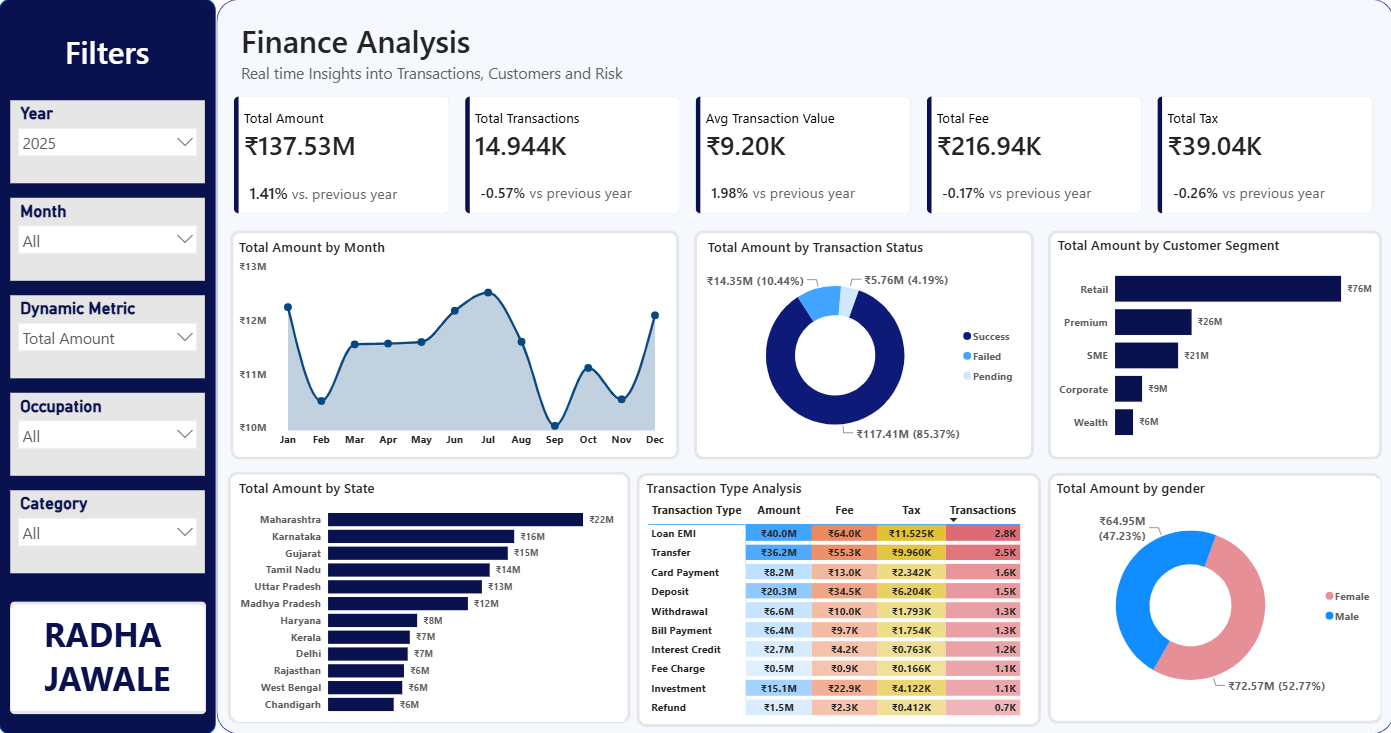

What the dashboard file says about the page in this screenshot:
{"tool":"powerbi","page":{"name":"Page 1","canvas":[1800,950],"ordinal":0},"visuals":[{"type":"shape","box":[0,0,279.8,949.4],"z":0},{"type":"shape","box":[280,0,1520,948.9],"z":1000},{"type":"cardVisual","fields":{"Data":["finance_transactions.Dashboard Title"]},"box":[295.2,15.4,930.1,102.3],"z":2000},{"type":"cardVisual","fields":{"Data":["finance_transactions.Total Amount","finance_transactions.Total Transactions","finance_transactions.Avg Transaction Value","finance_transactions.Total Fee","finance_transactions.Total Tax"]},"box":[295.2,117.7,1489.7,167.9],"z":3000},{"type":"slicer","fields":{"Values":["Calendar table.year"]},"box":[14.5,130.9,250.9,107.3],"z":4000},{"type":"slicer","fields":{"Values":["Dynamic Metric.Dynamic Metric"]},"box":[14.5,382.7,250.9,107.3],"z":5000},{"type":"shape","box":[298.1,298.1,579.6,296.3],"z":6000},{"type":"shape","box":[896.3,298.1,438.9,296.3],"z":7000},{"type":"areaChart","fields":{"Y":["finance_transactions.Total Amount"],"Category":["Calendar table.Month"]},"box":[305.3,307.4,564.2,280],"z":8000},{"type":"donutChart","fields":{"Y":["finance_transactions.Total Amount"],"Category":["finance_transactions.transaction_status"]},"box":[909.3,307.4,413,281.5],"z":9000},{"type":"shape","box":[1353.7,298.1,431.5,296.3],"z":10000},{"type":"barChart","fields":{"Y":["finance_transactions.Total Amount"],"Category":["customers.customer_segment"]},"box":[1361.1,305.6,416.7,281.5],"z":11000},{"type":"shape","box":[295.8,610.5,520,325.3],"z":12000},{"type":"barChart","fields":{"Y":["finance_transactions.Total Amount"],"Category":["customers.state"]},"box":[305.3,620,502.1,313.7],"z":13000},{"type":"shape","box":[822.2,611.1,522.2,328.4],"z":14000},{"type":"shape","box":[1353.7,611.1,431.5,324.1],"z":15000},{"type":"tableEx","title":"Transaction Type Analysis","fields":{"Values":["finance_transactions.transaction_type","finance_transactions.Total Amount","finance_transactions.Total Fee","finance_transactions.Total Tax","finance_transactions.Total Transactions"]},"box":[831.1,620.3,504.1,314.9],"z":16000},{"type":"donutChart","fields":{"Y":["finance_transactions.Total Amount"],"Category":["customers.gender"]},"box":[1360.8,620.3,423,304.1],"z":17000},{"type":"slicer","fields":{"Values":["customers.occupation"]},"box":[14.5,508.6,250.9,107.3],"z":18000},{"type":"slicer","fields":{"Values":["finance_transactions.merchant_category"]},"box":[14.5,634.5,250.9,107.3],"z":19000},{"type":"slicer","fields":{"Values":["Calendar table.Month"]},"box":[14.5,256.8,250.9,107.3],"z":20000},{"type":"cardVisual","fields":{"Data":["finance_transactions.Filter Title"]},"box":[14.5,16.4,250.9,101.8],"z":21000},{"type":"shape","box":[14.5,778.2,252.7,145.5],"z":22000},{"type":"textbox","box":[14.5,785.5,250.9,132.7],"z":23000}]}

Visuals, with their boxes in screenshot pixels (x1, y1, x2, y2), scaled from the page's 1800x950 canvas onto the 1391x733 screenshot:
shape: <box>0,0,216,732</box>
shape: <box>216,0,1390,732</box>
cardVisual - finance_transactions.Dashboard Title: <box>228,12,947,91</box>
cardVisual - finance_transactions.Total Amount x finance_transactions.Total Transactions: <box>228,91,1379,220</box>
slicer - Calendar table.year: <box>11,101,205,184</box>
slicer - Dynamic Metric.Dynamic Metric: <box>11,295,205,378</box>
shape: <box>230,230,678,459</box>
shape: <box>693,230,1032,459</box>
areaChart - finance_transactions.Total Amount x Calendar table.Month: <box>236,237,672,453</box>
donutChart - finance_transactions.Total Amount x finance_transactions.transaction_status: <box>703,237,1022,454</box>
shape: <box>1046,230,1380,459</box>
barChart - finance_transactions.Total Amount x customers.customer_segment: <box>1052,236,1374,453</box>
shape: <box>229,471,630,722</box>
barChart - finance_transactions.Total Amount x customers.state: <box>236,478,624,720</box>
shape: <box>635,472,1039,725</box>
shape: <box>1046,472,1380,722</box>
"Transaction Type Analysis" tableEx: <box>642,479,1032,722</box>
donutChart - finance_transactions.Total Amount x customers.gender: <box>1052,479,1378,713</box>
slicer - customers.occupation: <box>11,392,205,475</box>
slicer - finance_transactions.merchant_category: <box>11,490,205,572</box>
slicer - Calendar table.Month: <box>11,198,205,281</box>
cardVisual - finance_transactions.Filter Title: <box>11,13,205,91</box>
shape: <box>11,600,206,713</box>
textbox: <box>11,606,205,708</box>
